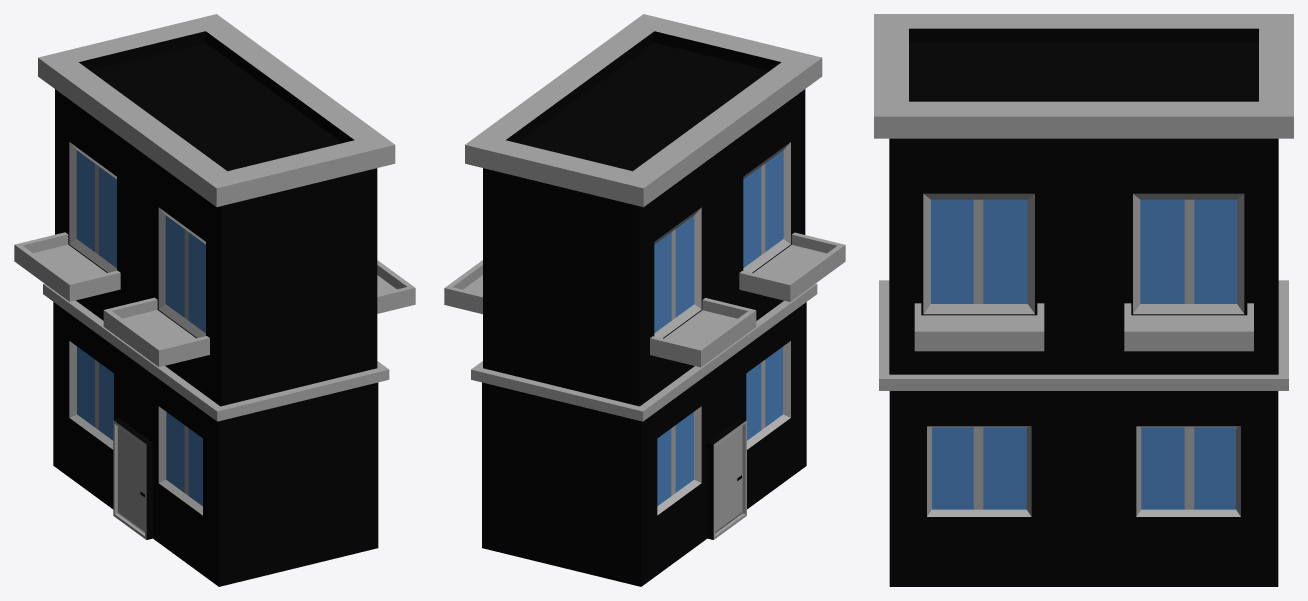
The model's file is GREY BUILDING2.002_Material.035.glb.
3 views of the same model, side by side, from view 1: azimuth 30°, elevation 25°; view 2: azimuth 150°, elevation 25°; view 3: azimuth 270°, elevation 25° (orthographic). The views are drawn at different scales.
Parts seen in each view (by area): view 1: GREY BUILDING2.002_Material.035_0; view 2: GREY BUILDING2.002_Material.035_0; view 3: GREY BUILDING2.002_Material.035_0.
Part boxes in pixels (bbox=[...]): GREY BUILDING2.002_Material.035_0: bbox=[14, 14, 415, 586]; GREY BUILDING2.002_Material.035_0: bbox=[444, 14, 845, 586]; GREY BUILDING2.002_Material.035_0: bbox=[874, 14, 1293, 586].
Size of the model in its own units: 1.74 by 2.64 by 2.11.
1 material, 1 textured.
